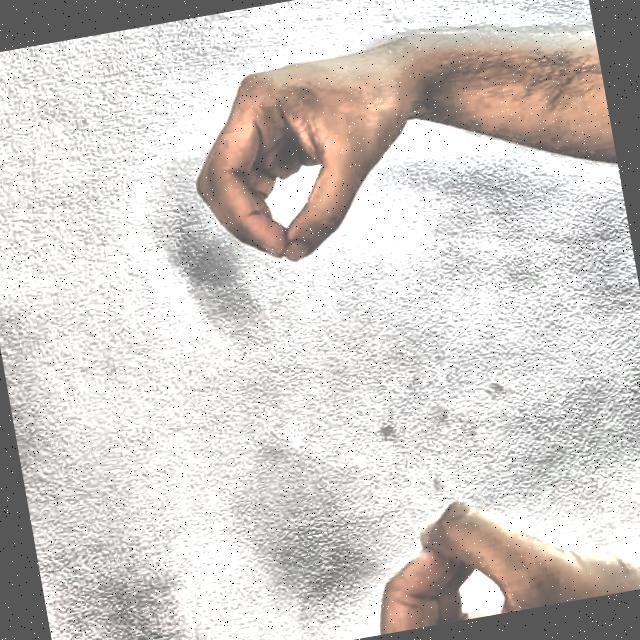Bisharga: (163, 8, 572, 640)
